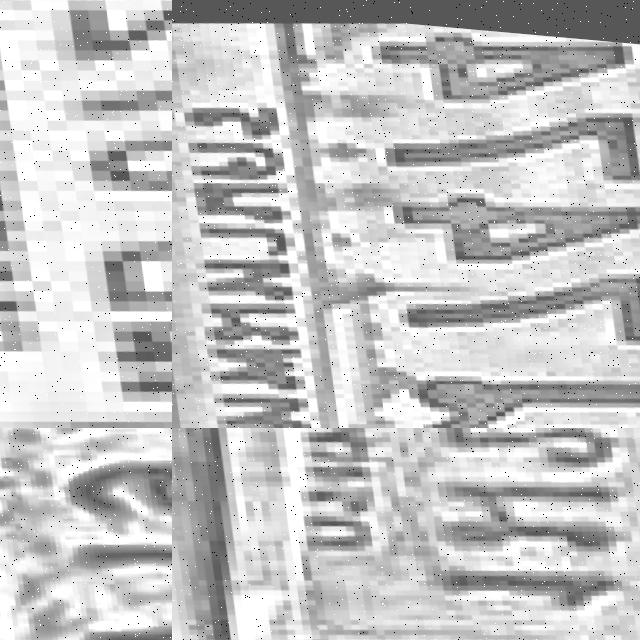license-plate: (172, 0, 640, 428), (172, 428, 640, 640), (0, 0, 172, 428), (0, 428, 172, 640)
